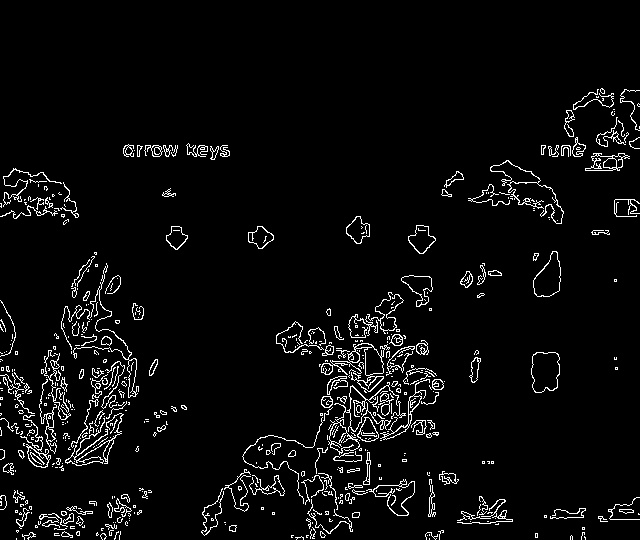rune_box: (87, 189, 501, 285)
